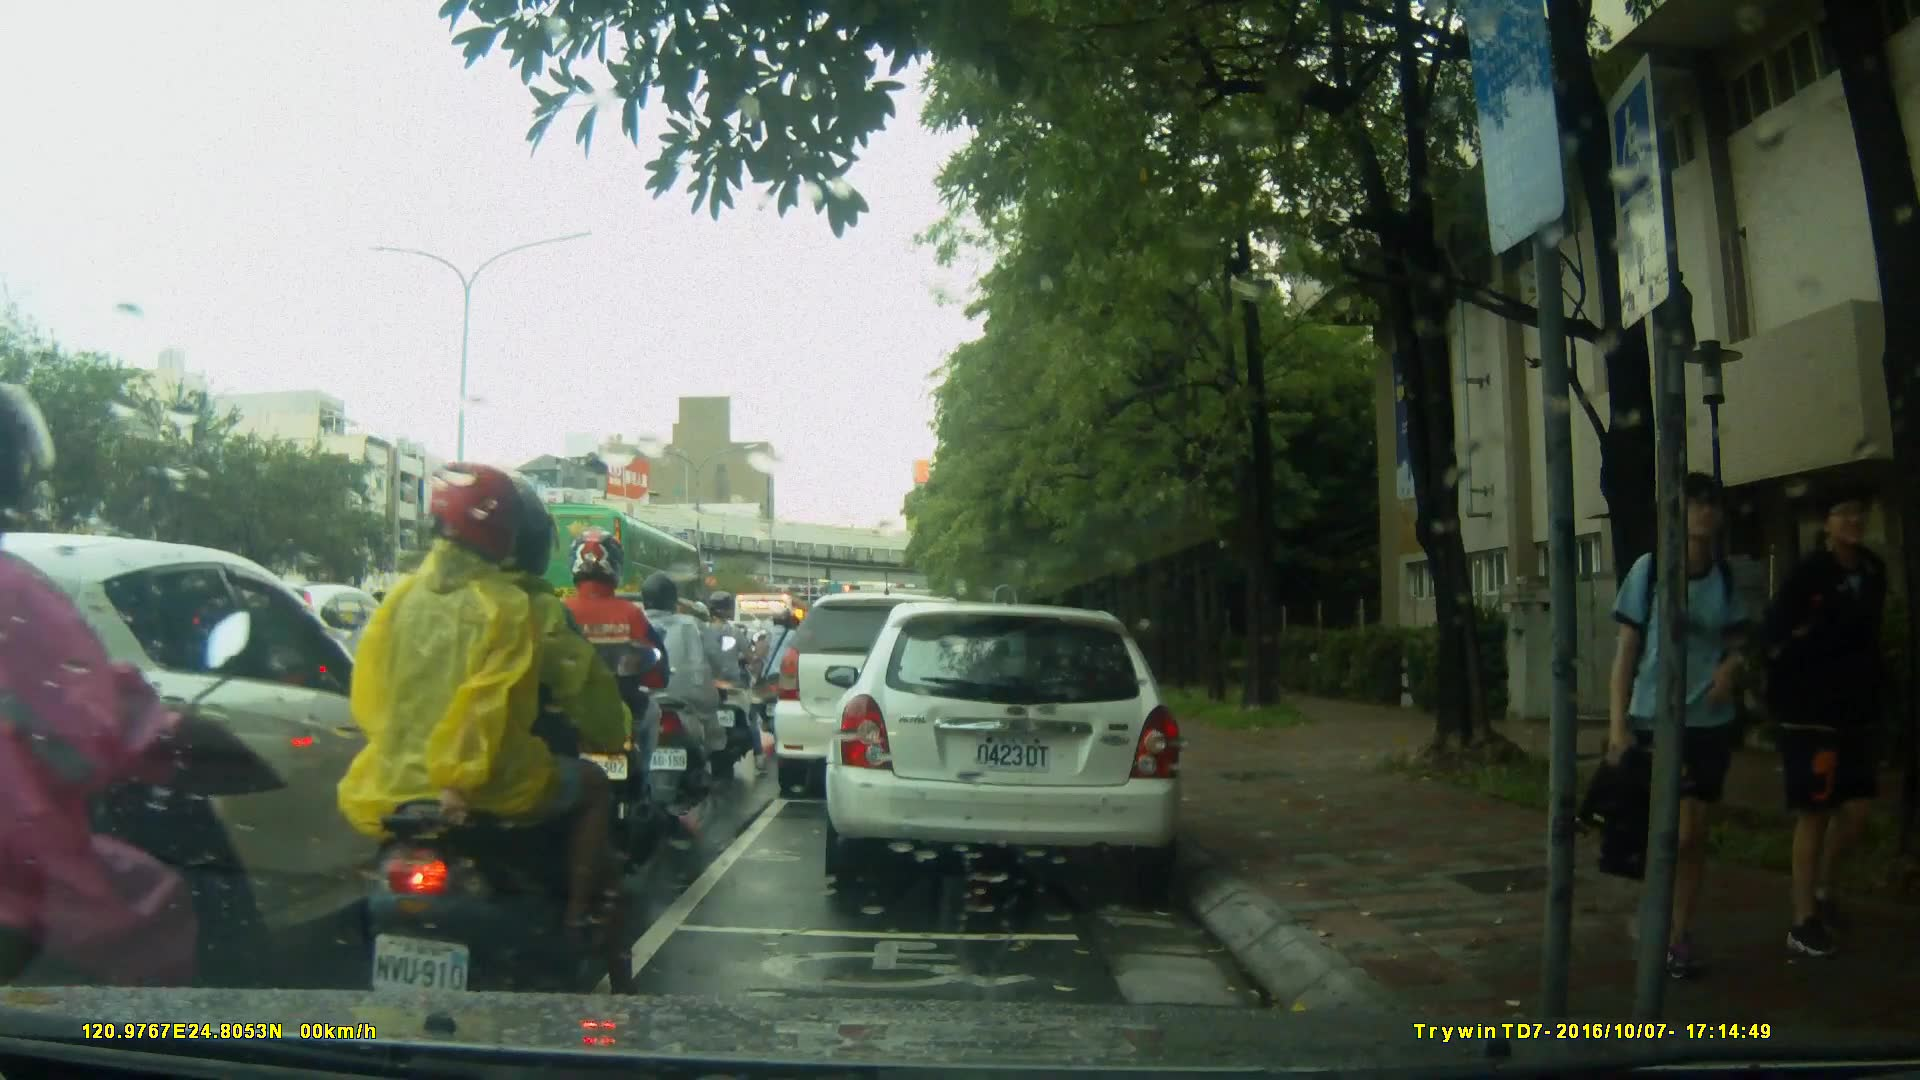pedestrian: (1573, 472, 1778, 992), (1741, 501, 1894, 959)
rider: (1, 381, 269, 1063), (340, 466, 628, 1032), (539, 530, 682, 863), (616, 572, 729, 812), (693, 585, 767, 770), (754, 607, 812, 739)
vehicle: (2, 533, 461, 988), (831, 592, 1196, 897), (320, 590, 629, 776), (770, 590, 999, 804), (495, 500, 708, 636)
